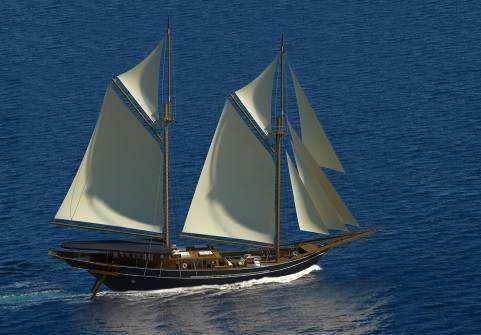fanchuan: (48, 10, 386, 291)
